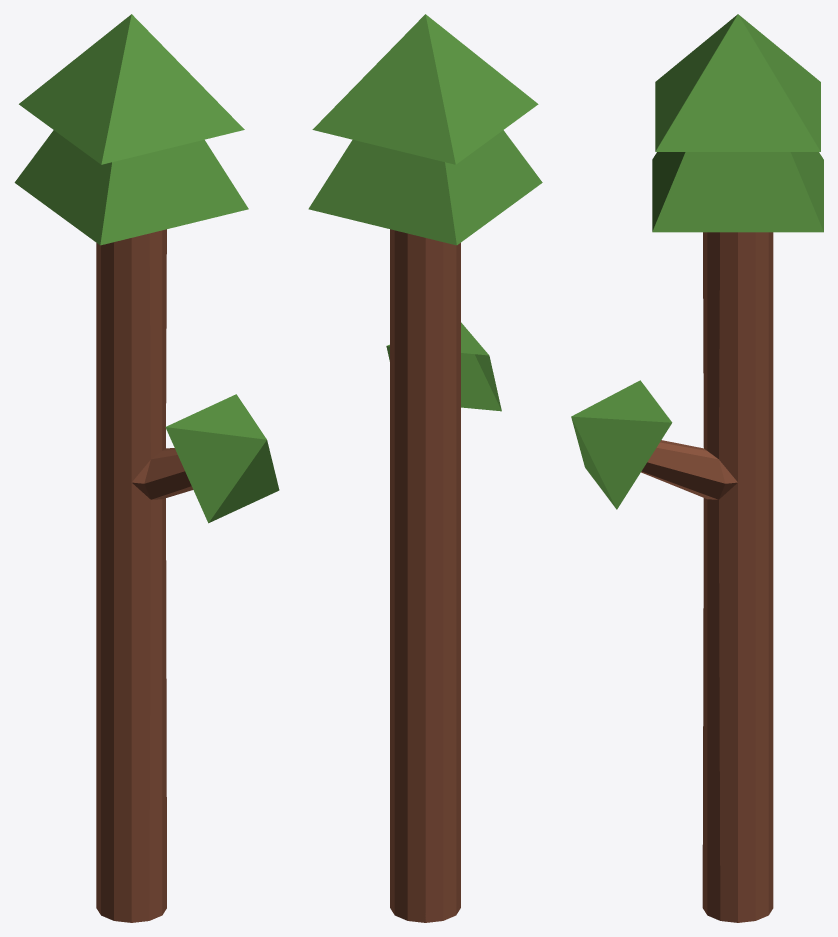
File: Tree_25_summer_mat.fbx
3 views of the same model, side by side, from view 1: azimuth 30°, elevation 25°; view 2: azimuth 150°, elevation 25°; view 3: azimuth 270°, elevation 25° (orthographic).
Visible parts, largest first — view 1: Tree_25_summer_mat; view 2: Tree_25_summer_mat; view 3: Tree_25_summer_mat.
Part boxes in pixels (<box>): Tree_25_summer_mat: <box>14,14,279,922</box>; Tree_25_summer_mat: <box>308,14,542,922</box>; Tree_25_summer_mat: <box>571,14,823,922</box>.
Size of the model in its own units: 58.32 by 308 by 79.03.
